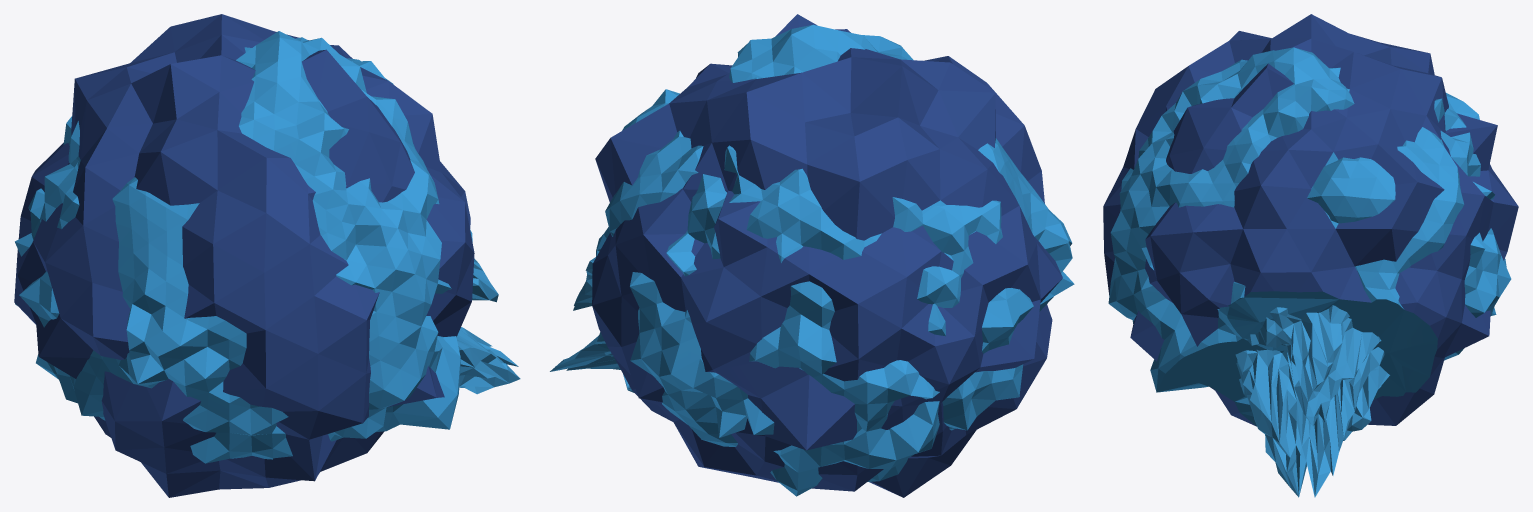
Rendered from sp_planet.glb.
3 renders of one model, left to right at view 1: azimuth 30°, elevation 25°; view 2: azimuth 150°, elevation 25°; view 3: azimuth 270°, elevation 25°, orthographic. The views are drawn at different scales.
Parts seen in each view (by area): view 1: SP_Planet; view 2: SP_Planet; view 3: SP_Planet.
Boxes of the visible parts, x1,y1,x2,y2 form: SP_Planet: [14, 14, 520, 497]; SP_Planet: [550, 14, 1074, 497]; SP_Planet: [1103, 14, 1518, 497].
Bounding box in the file's own units: 1255 × 1096 × 1085.
Materials: 1 (1 with a texture image).
